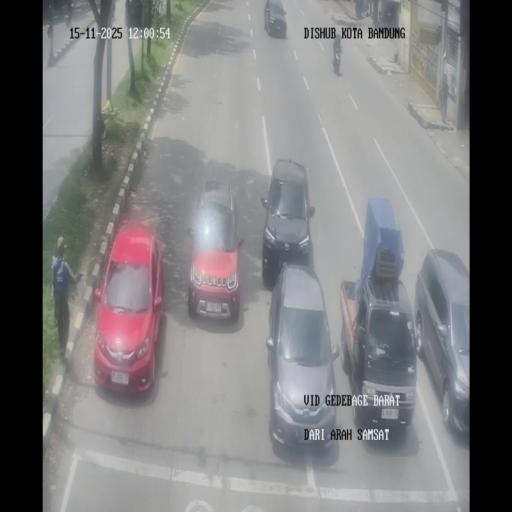car: (267, 264, 338, 455), (93, 222, 165, 396), (414, 251, 469, 440), (263, 0, 287, 38)
motorcycle: (332, 43, 342, 75), (378, 10, 383, 24)
truck: (340, 198, 417, 436)
